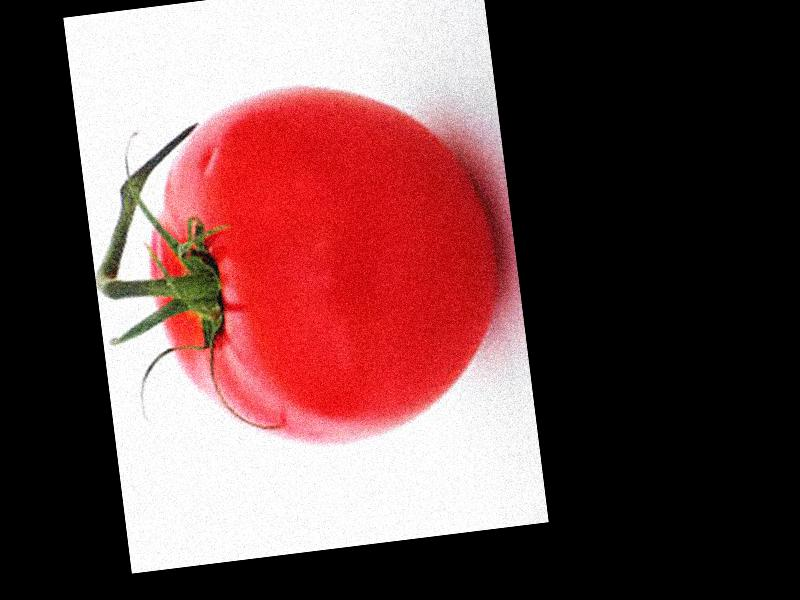Tomato: (132, 67, 519, 467)
